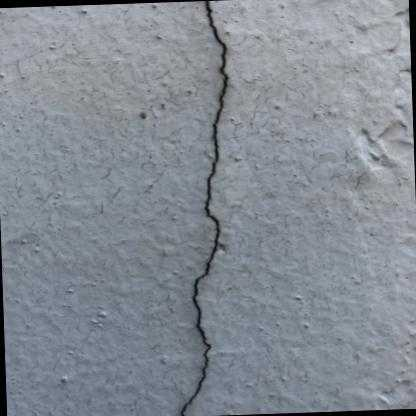crack: (179, 0, 230, 416)
